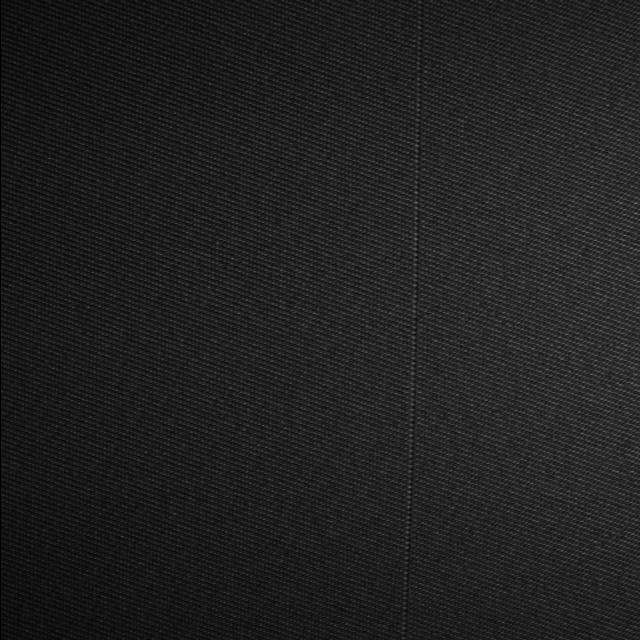Thread_other: (267, 7, 556, 640)
